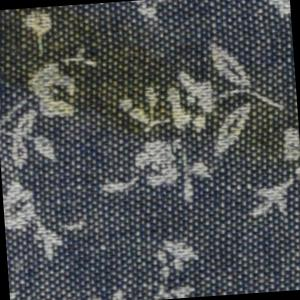Oil Stain: (1, 1, 221, 154), (238, 88, 300, 170)
